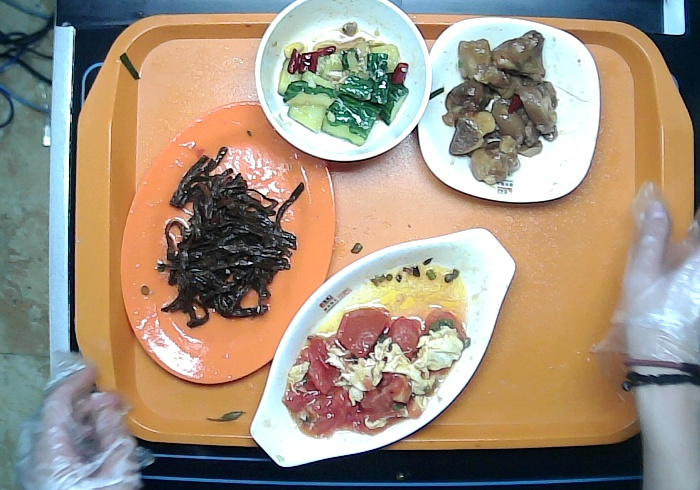NLDX-Bai_Se_Xiao_Fang_Die: (418, 18, 602, 204)
NLDX-Fan_Wan: (252, 1, 434, 163)
NLDX-Ju_Se_Pan: (119, 100, 337, 383)
NLDX-Yu_Pan: (249, 226, 516, 470)
